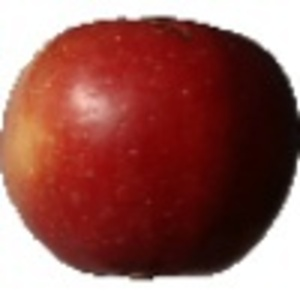maçã braeburn: (1, 10, 299, 280)
